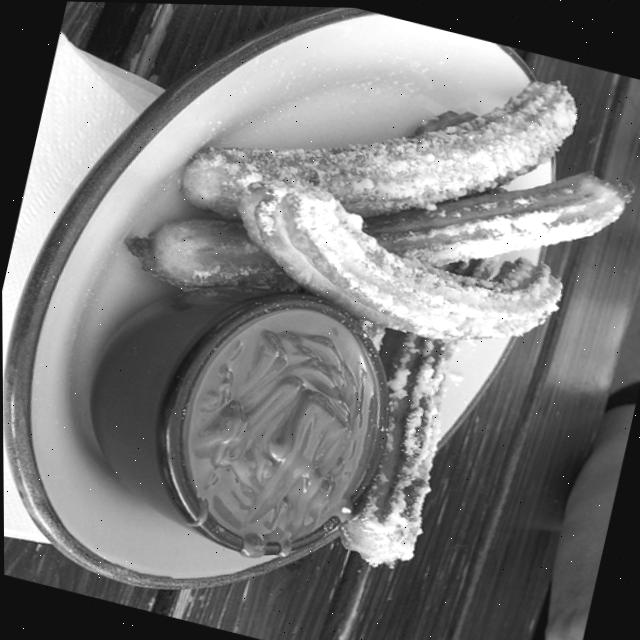炸货点心: (14, 0, 640, 640)
